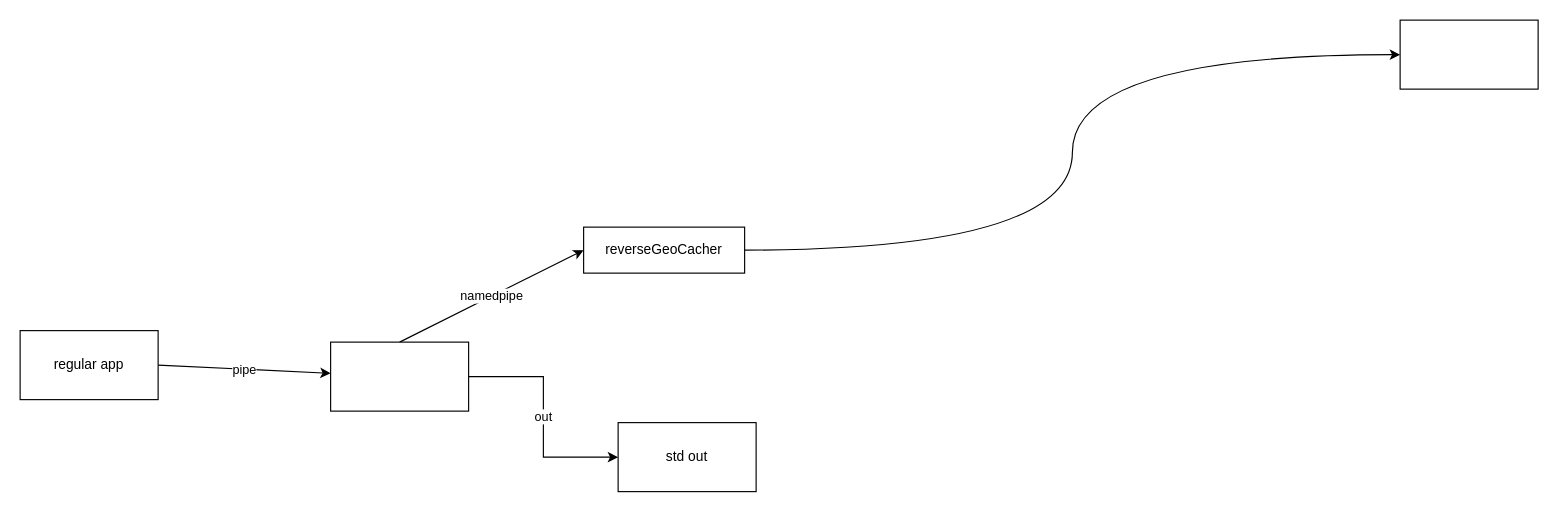
The diagram is 1558 pixels wide and 512 high, and some of its shapes have lost their labels. Here are the shapes that lost their labels. From the top down, the centre of each, then its label:
the point at 1468,54: nominatim
the point at 399,376: pipe to named pipe broker
